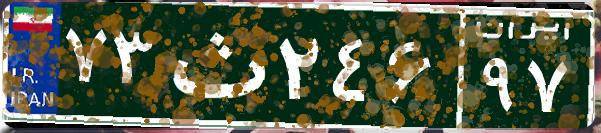2: (273, 28, 330, 110)
3: (110, 28, 158, 105)
4: (330, 28, 385, 110)
6: (385, 28, 445, 110)
7: (57, 26, 110, 107), (525, 38, 570, 115)
9: (475, 38, 525, 113)
ث: (158, 15, 273, 115)
